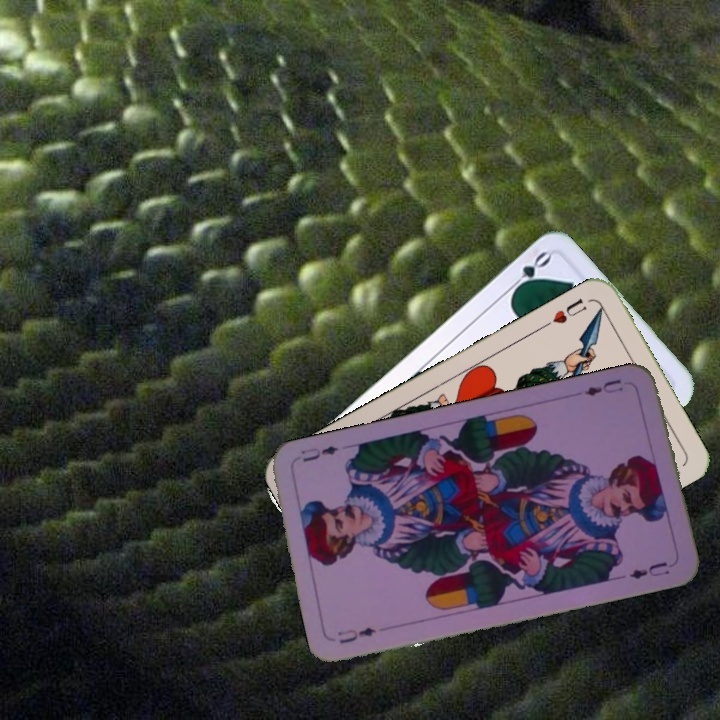EU: (580, 375, 626, 399), (333, 623, 379, 646)
GO: (504, 247, 554, 298)
HU: (539, 294, 590, 330)
